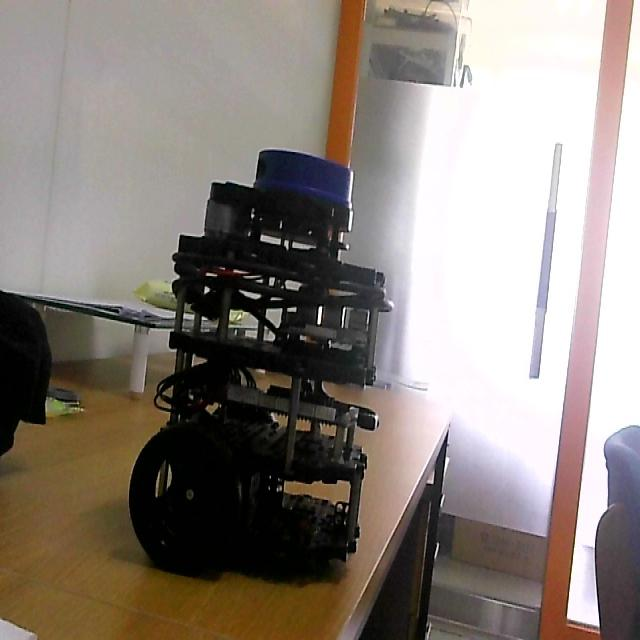turtle: (126, 144, 397, 583)
